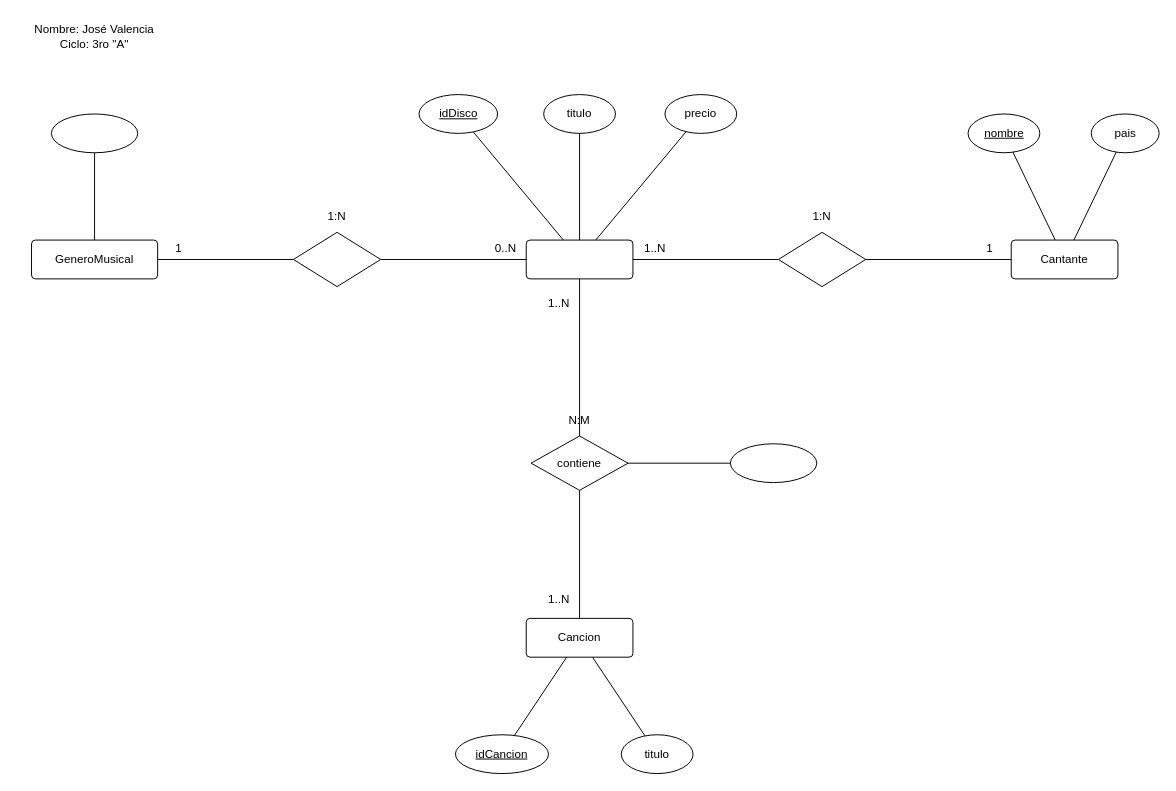
Some shapes in this 1176 by 791 pixel diagram are drawn without their labels. The centre of each missing label's shape, as x and y in pixels:
clasifica: pixel 336 259
Disco: pixel 579 259
graba: pixel 821 259
idGenero: pixel 94 133
posicion: pixel 773 463
